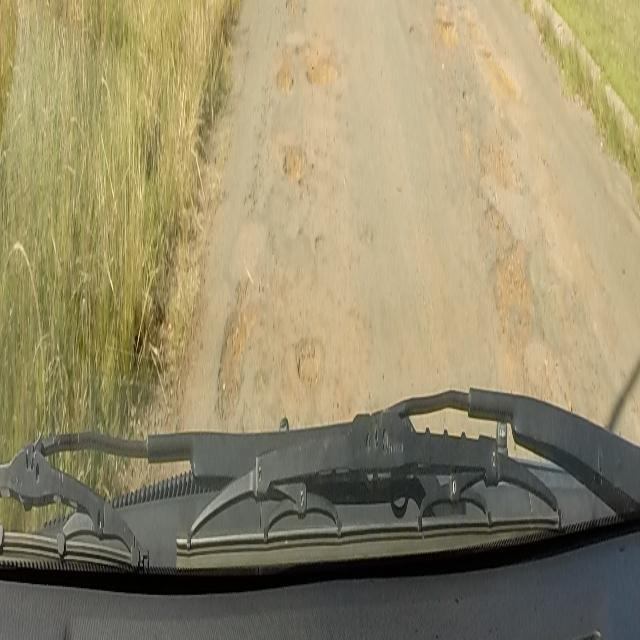pothole: (213, 278, 346, 425), (486, 218, 537, 340), (269, 51, 338, 99), (280, 136, 308, 180), (435, 10, 456, 42), (284, 0, 302, 16)
